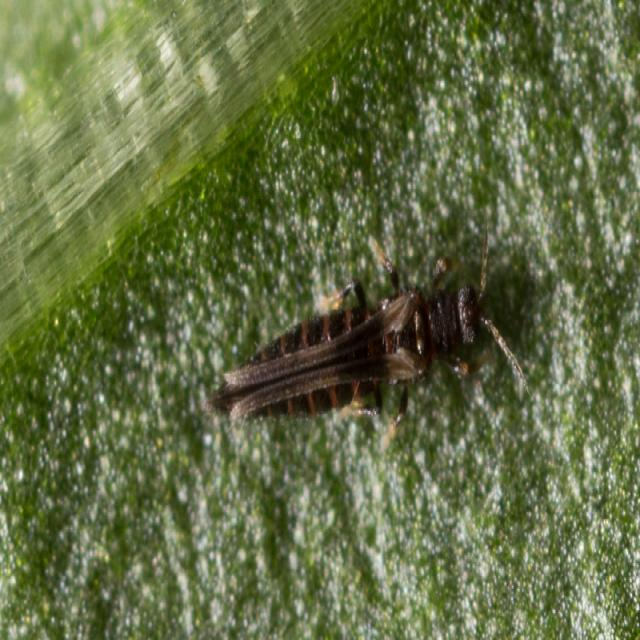Thrip-Adult-: (208, 218, 522, 445)
